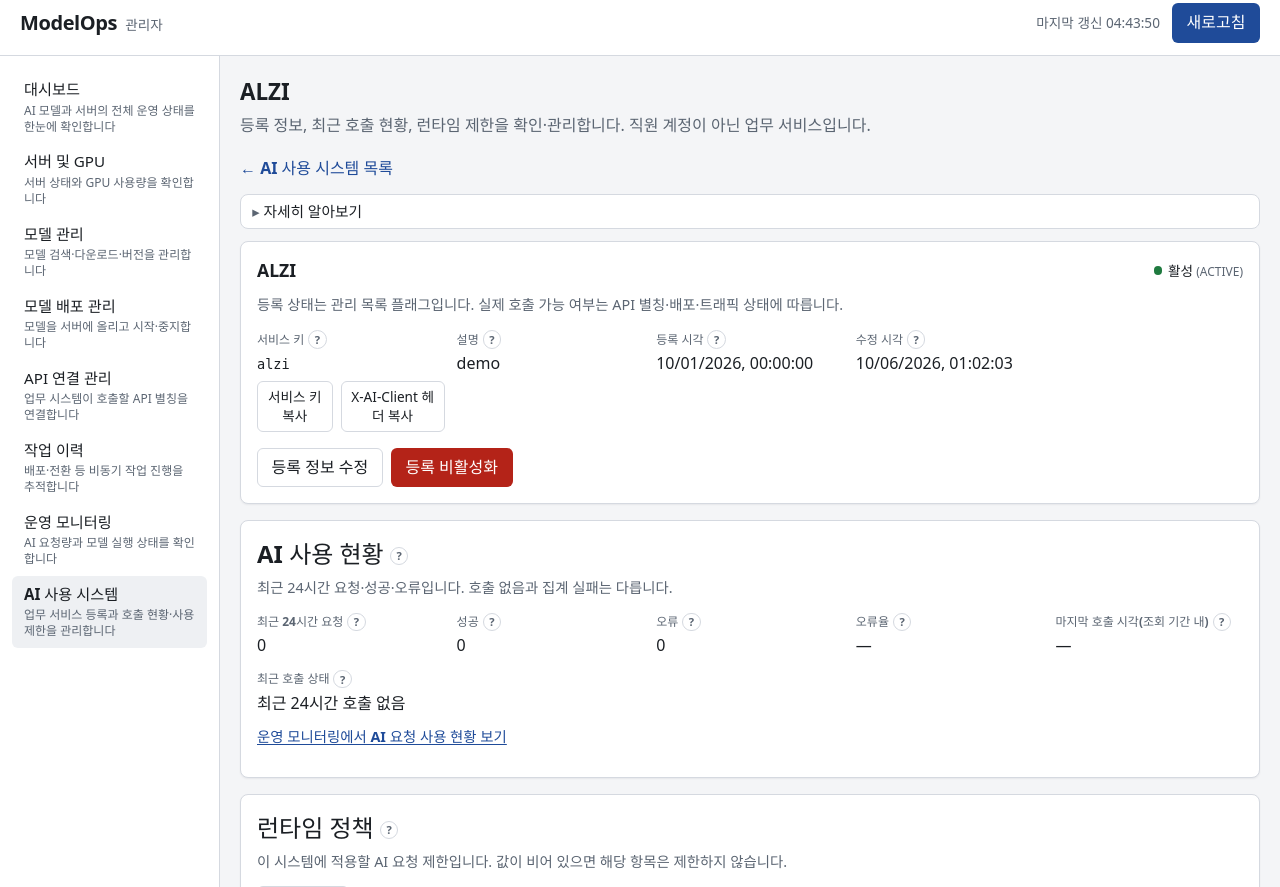
Test: ClientDetailPage › shows zero-usage and summary failure without breaking policy
The width and height of the screenshot is (1280, 887).
Expected: the text with test id "client-usage-status" reads "최근 24시간 호출 없음", [257,692,406,714]
Expected: the element with test id "client-usage-panel" shows "—", [856,634,872,656]
Click the button "새로고침" at coordinates (1216, 23), box [1172,3,1260,43]
(page scrolled)
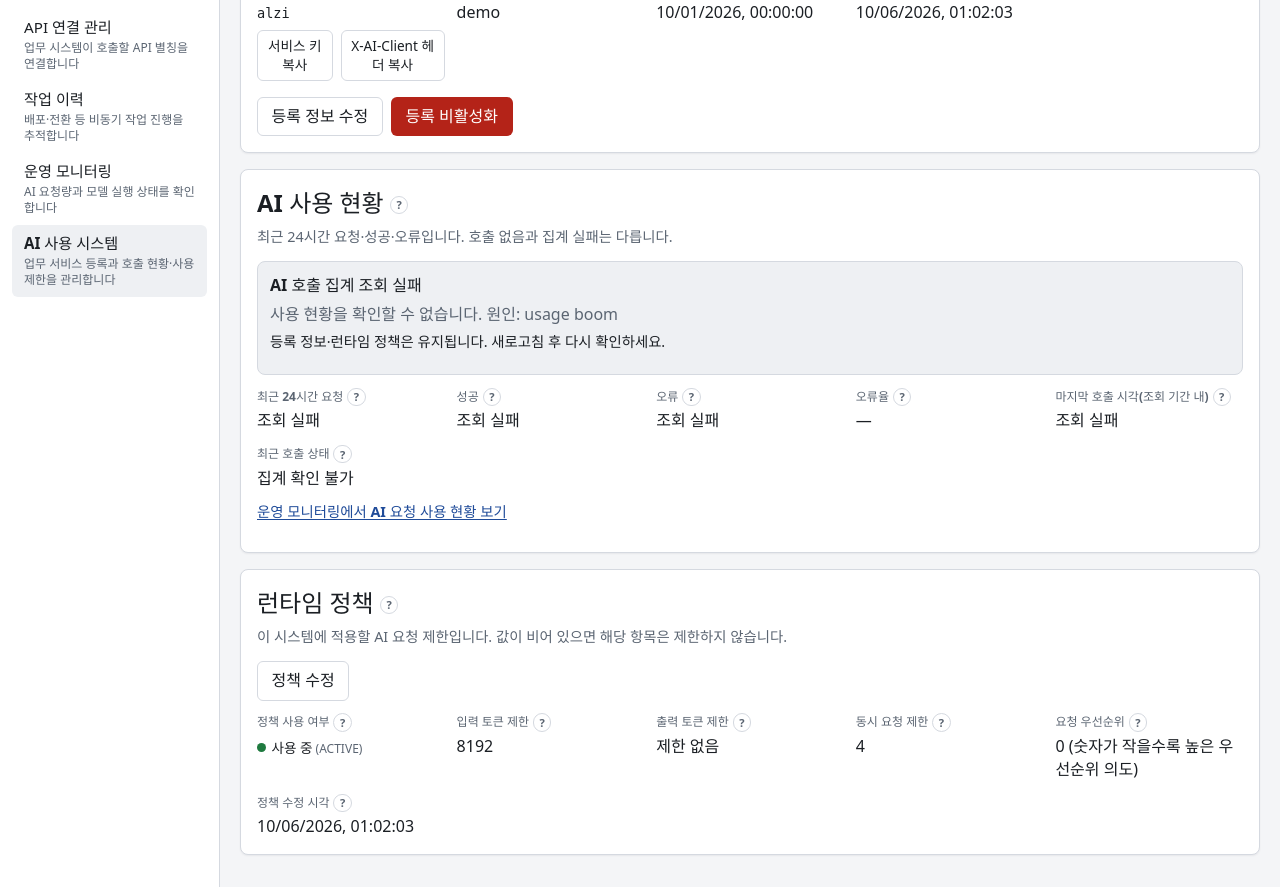
Expected: the button "정책 수정" is shown, [257,661,349,701]
Expected: the text "사용 현황을 확인할 수 없습니다. 원인: usage boom" is shown, [270,303,618,325]
Expected: the text with test id "client-usage-status" reads "집계 확인 불가", [257,467,354,489]
